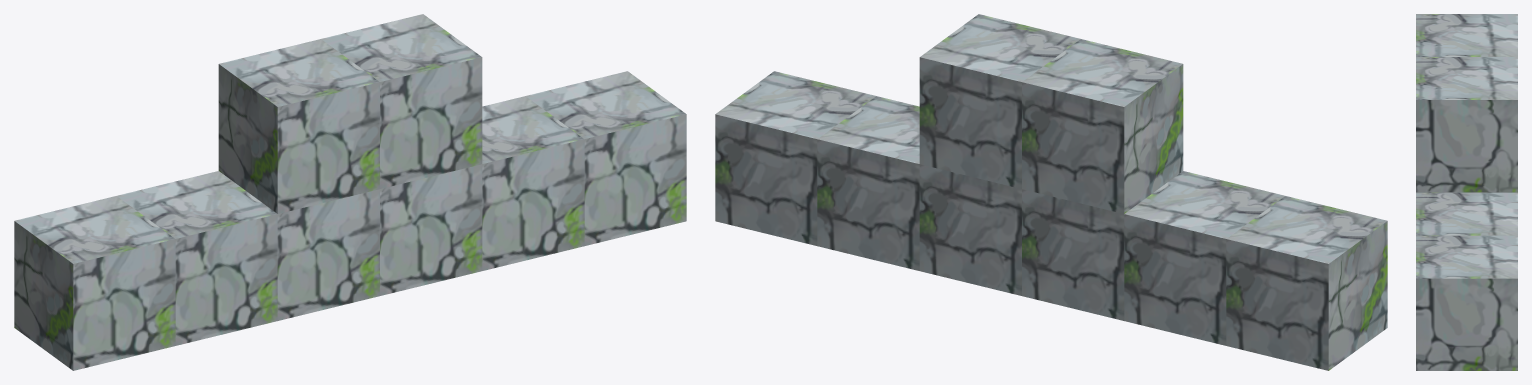
The model's file is BrickWall2.fbx.
The picture shows the model from 3 angles, left to right: view 1: azimuth 30°, elevation 25°; view 2: azimuth 150°, elevation 25°; view 3: azimuth 270°, elevation 25°; orthographic projection. The views are drawn at different scales.
Visible parts, largest first — view 1: pCube85; view 2: pCube85; view 3: pCube85.
Boxes of the visible parts, x1,y1,x2,y2 form: pCube85: [14, 14, 686, 370]; pCube85: [715, 14, 1387, 370]; pCube85: [1416, 14, 1517, 370].
Size of the model in its own units: 2400 by 800 by 400.
